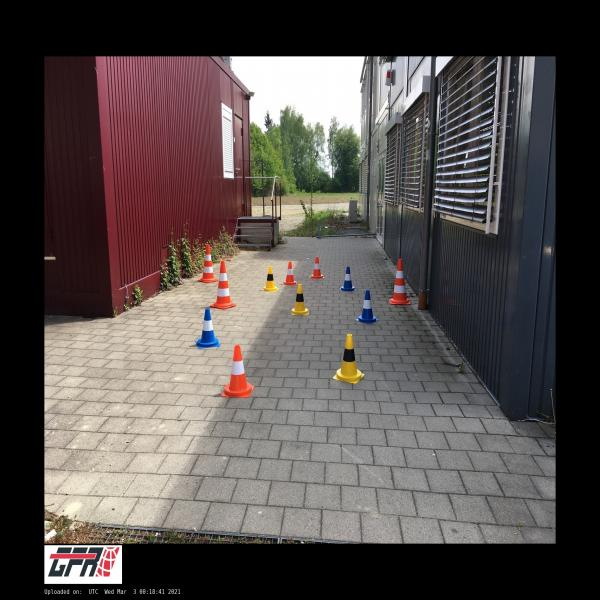blue_cone: (196, 308, 220, 348), (355, 290, 379, 324), (340, 266, 355, 291)
large_orange_cone: (210, 261, 236, 309), (389, 258, 410, 305), (198, 244, 219, 283)
orange_cone: (222, 346, 254, 398), (310, 256, 325, 278), (283, 262, 297, 285)
yellow_cone: (333, 334, 365, 383), (292, 284, 309, 315), (262, 266, 278, 292)
